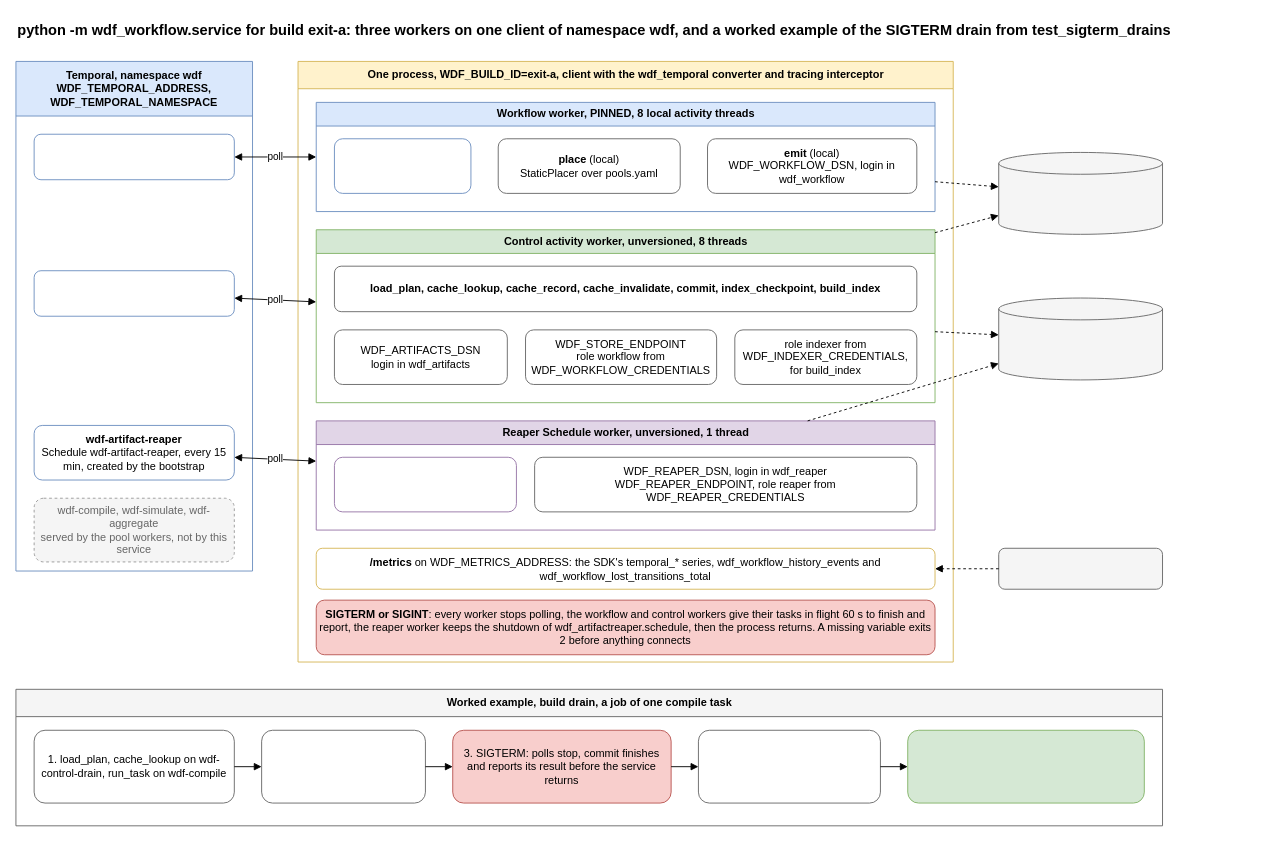
Image size: 1269x842. Some labels were removed from this diagram. Here are the shapes that lost their labels. From the top down, the centre of each, then its label:
At point 133,156: "wdf-workflow versioned: wdf-workflow-worker / exit-a".
At point 402,165: "JobWorkflow".
At point 1080,193: "appdb (Postgres) event, accepted_job, artifact, artifact_use".
At point 133,293: "wdf-control-exit-a unversioned, one per build".
At point 1080,338: "objectstore manifests, sources, outputs, indexes".
At point 425,484: "ReapWorkflow , activity reap_pass".
At point 1080,568: "Prometheus scrape".
At point 343,766: "2. commit starts and takes 3 s".
At point 789,766: "4. the job stays RUNNING with no worker of drain".
At point 1025,766: "5. the service starts again: cache_record, job.succeeded, and commit ran once".
